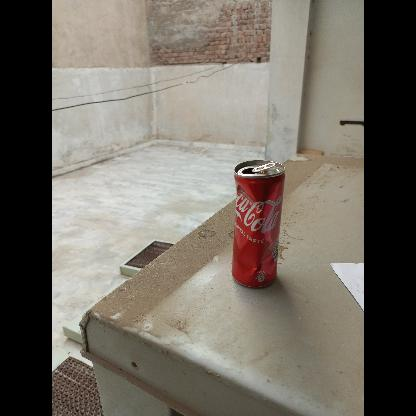Dent_Can: (235, 179, 283, 280), (236, 187, 244, 205)
Lid_Open: (242, 160, 276, 176)
Tin_Can: (226, 157, 286, 289)
